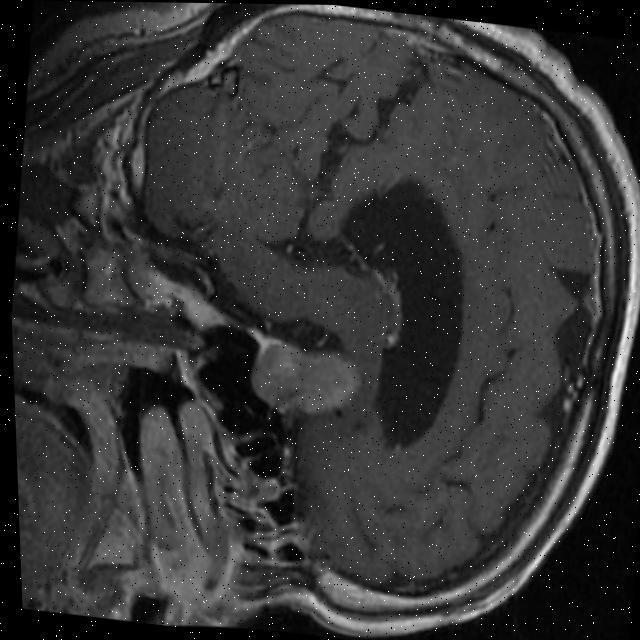Pituitary: (245, 337, 363, 419)
